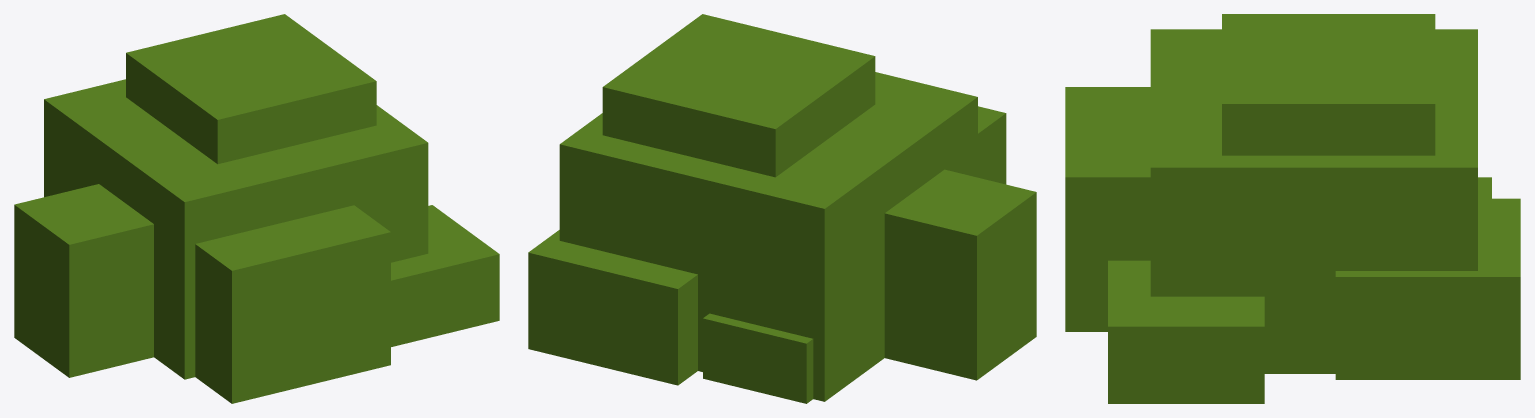
Rendered from bush_3.gltf.
The picture shows the model from 3 angles, left to right: view 1: azimuth 30°, elevation 25°; view 2: azimuth 150°, elevation 25°; view 3: azimuth 270°, elevation 25°; orthographic projection. The views are drawn at different scales.
Parts seen in each view (by area): view 1: Node1; view 2: Node1; view 3: Node1.
Part boxes in pixels (x1=…): Node1: x1=14, y1=14, x2=499, y2=403; Node1: x1=528, y1=14, x2=1036, y2=403; Node1: x1=1065, y1=14, x2=1520, y2=403.
Bounding box in the file's own units: 3.6 × 2 × 3.2.
Materials: 1 (1 with a texture image).
